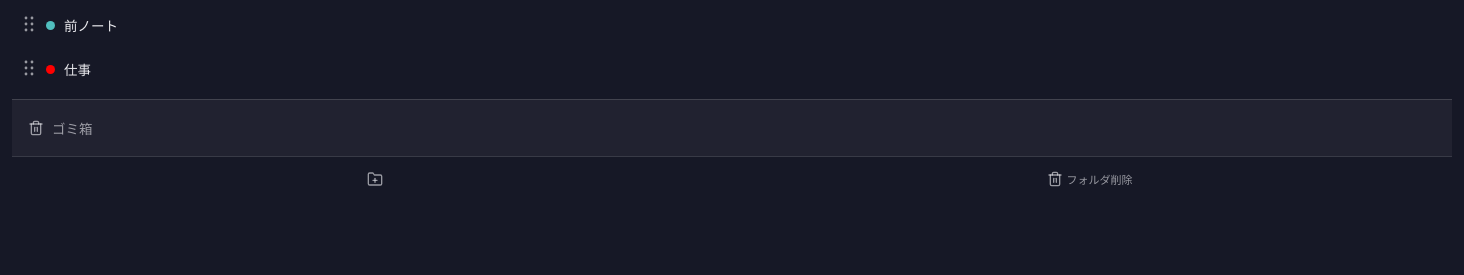
it: FolderList › hides the folder creation form initially and opens it when 新しいフォルダを追加 is clicked, then closes on submit
This screenshot has width=1464, height=275.
Expected: the field labelled "新しいフォルダ名" is not shown
Step 1. Click the button named "新しいフォルダを追加" → (374, 179), box top-left (18, 163), bottom-right (731, 195)
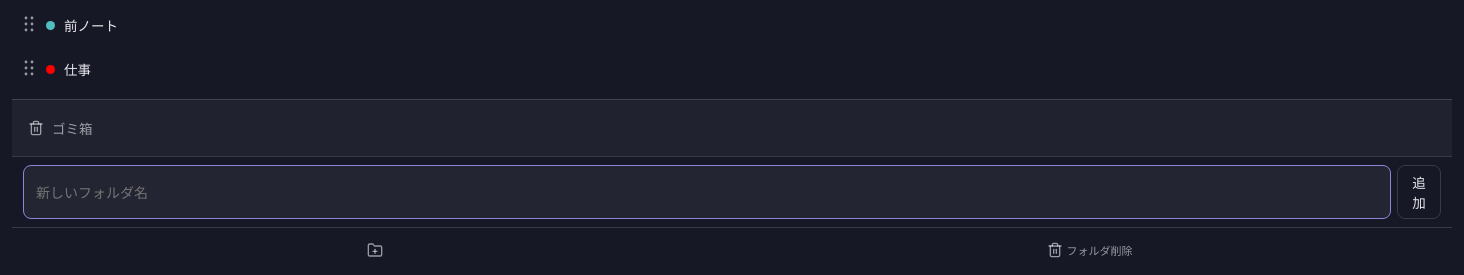
Step 2. Type "新規フォルダ" into the field labelled "新しいフォルダ名" → (707, 192), box top-left (23, 165), bottom-right (1391, 219)
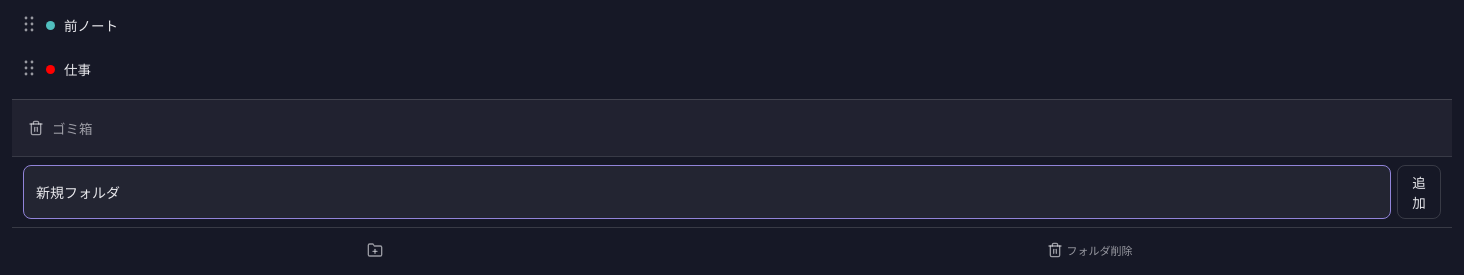
Step 3. Click the button "追加" → (1419, 192), box top-left (1397, 165), bottom-right (1441, 219)
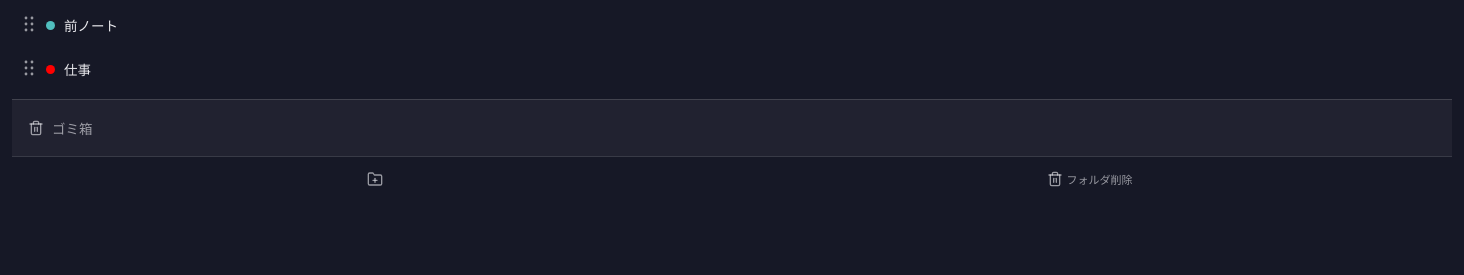
Expected: the field labelled "新しいフォルダ名" is gone
